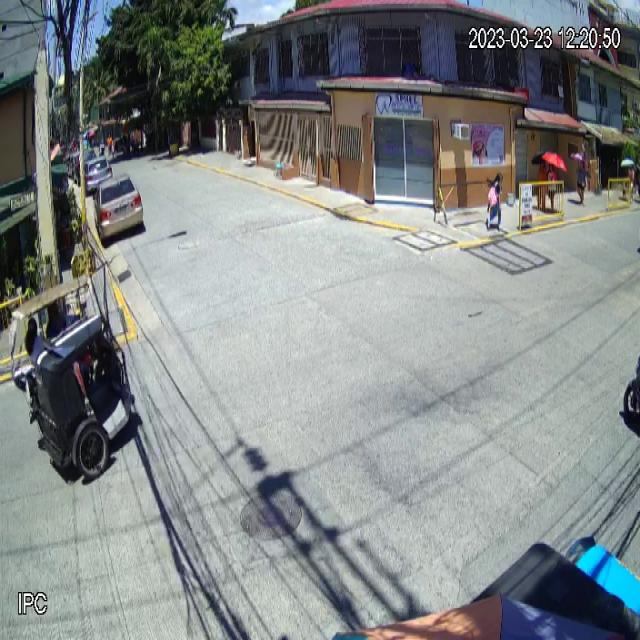Tricycle: (9, 266, 133, 488)
